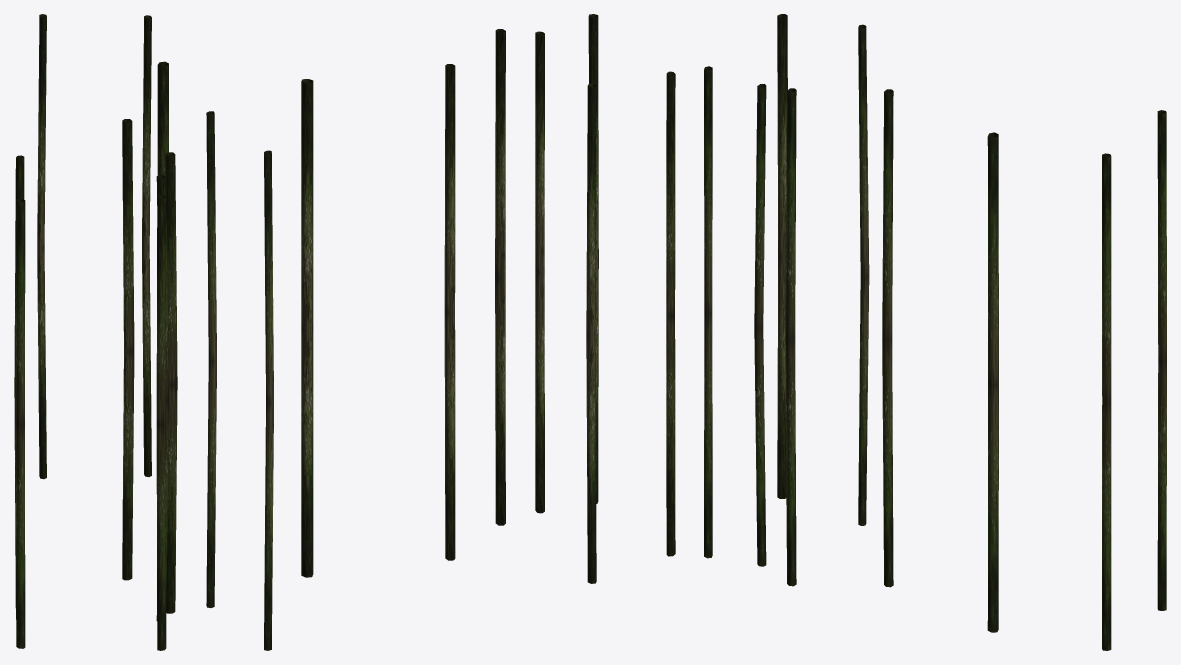
File: pir_m_prp_per_portRoyal_underwater.fbx
3 views of the same model, side by side, from view 1: azimuth 30°, elevation 25°; view 2: azimuth 150°, elevation 25°; view 3: azimuth 270°, elevation 25° (orthographic). The views are drawn at different scales.
Parts seen in each view (by area): view 1: lod_high; view 2: lod_high; view 3: lod_high.
Part boxes in pixels (x1,y1,x2,y2): lod_high: [14, 14, 177, 650]; lod_high: [206, 14, 675, 650]; lod_high: [704, 14, 1166, 650].
Size of the model in its own units: 10310 by 16018 by 13494.
Materials: 1 (1 with a texture image).
